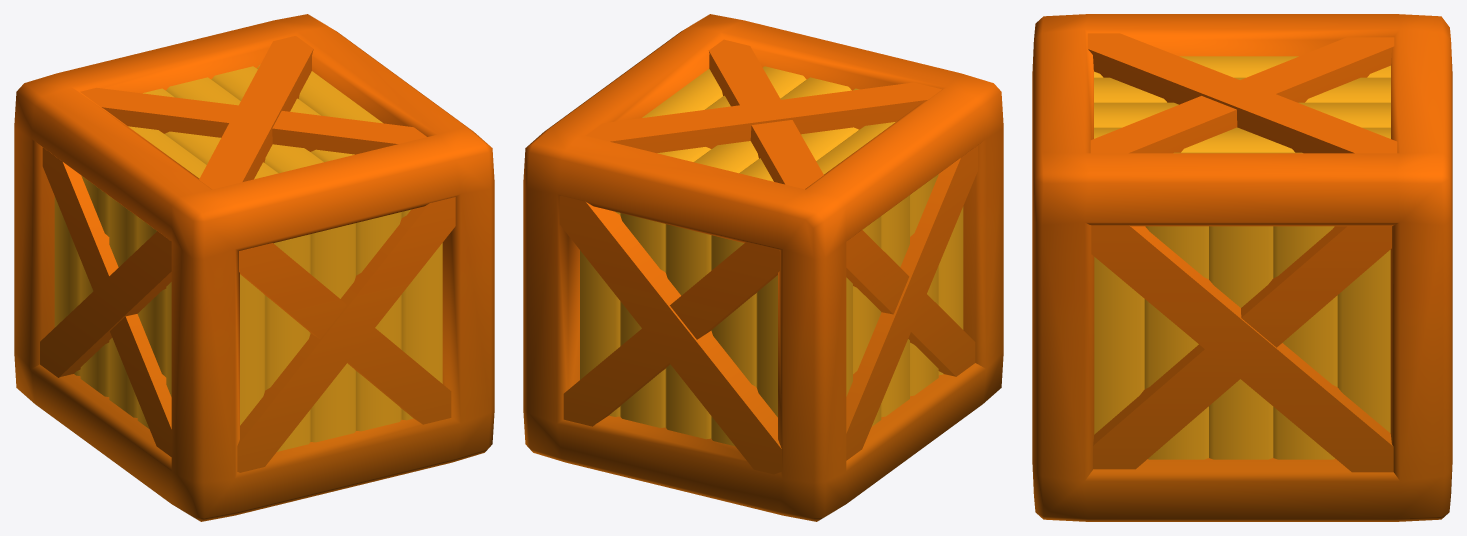
3 renders of one model, left to right at view 1: azimuth 30°, elevation 25°; view 2: azimuth 150°, elevation 25°; view 3: azimuth 270°, elevation 25°, orthographic. The views are drawn at different scales.
Visible parts, largest first — view 1: Crate_01; view 2: Crate_01; view 3: Crate_01.
Boxes of the visible parts, x1,y1,x2,y2 form: Crate_01: (14,14,494,521); Crate_01: (523,14,1003,521); Crate_01: (1032,14,1452,521).
Size of the model in its own units: 70.74 by 69.52 by 74.94.
Materials: 1 (1 with a texture image).
